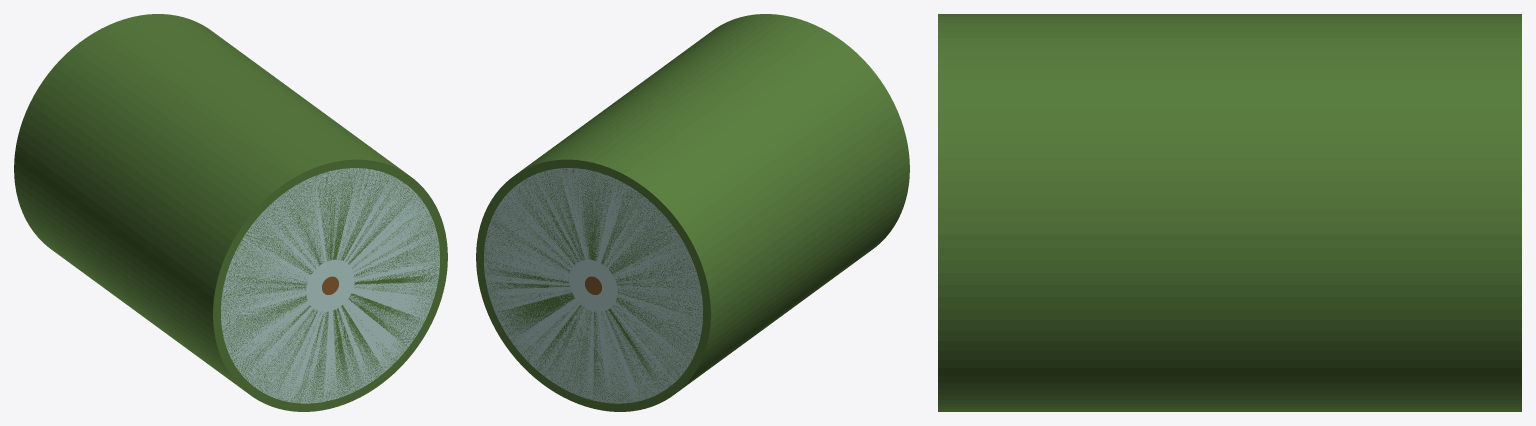
Rendered from latest-model.obj.
3 views of the same model, side by side, from view 1: azimuth 30°, elevation 25°; view 2: azimuth 150°, elevation 25°; view 3: azimuth 270°, elevation 25° (orthographic). The views are drawn at different scales.
Parts seen in each view (by area): view 1: ground_tube, epoxy_fill_envelope, ground_plate_14; view 2: ground_tube, epoxy_fill_envelope, ground_plate_00; view 3: ground_tube.
Part boxes in pixels (x1=…): ground_tube: x1=14, y1=14, x2=447, y2=411; epoxy_fill_envelope: x1=221, y1=168, x2=439, y2=403; ground_plate_14: x1=221, y1=168, x2=439, y2=403; ground_tube: x1=476, y1=14, x2=909, y2=411; epoxy_fill_envelope: x1=484, y1=168, x2=702, y2=403; ground_plate_00: x1=484, y1=168, x2=702, y2=403; ground_tube: x1=938, y1=14, x2=1521, y2=411.
Bounding box in the file's own units: 30 × 30 × 44.
